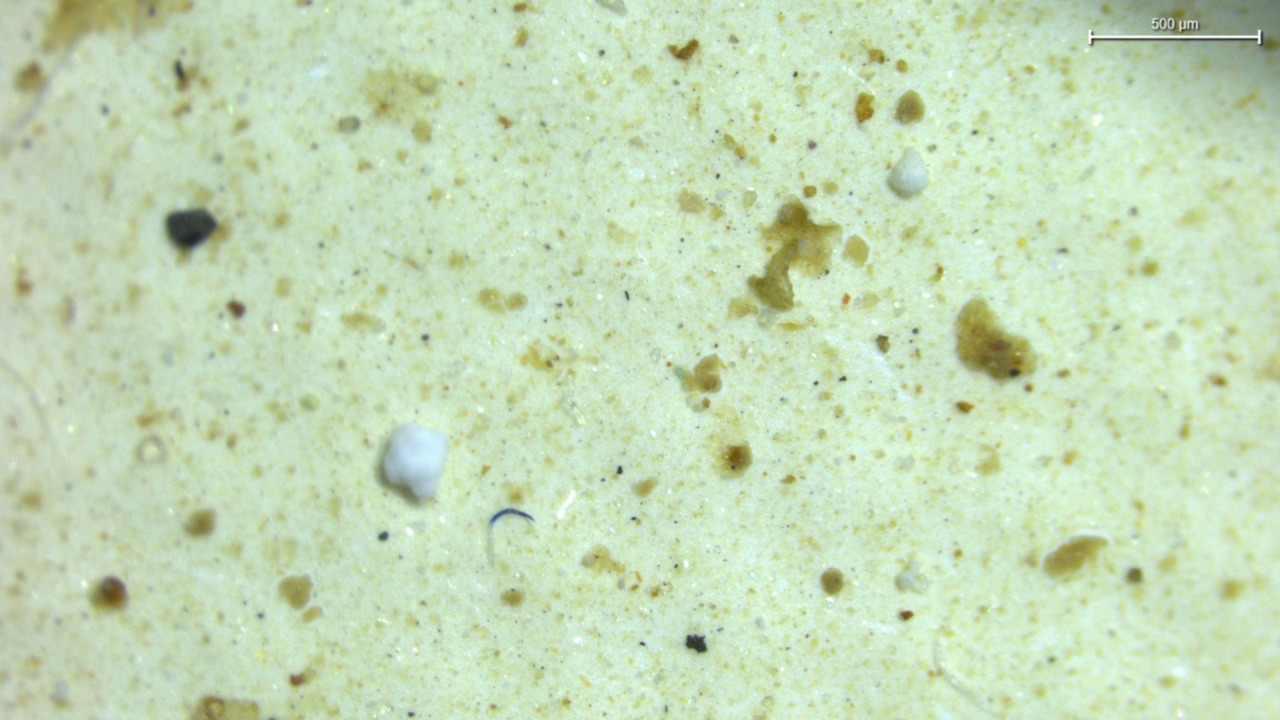microplastic_fragment: (382, 423, 449, 501), (887, 149, 928, 198)
